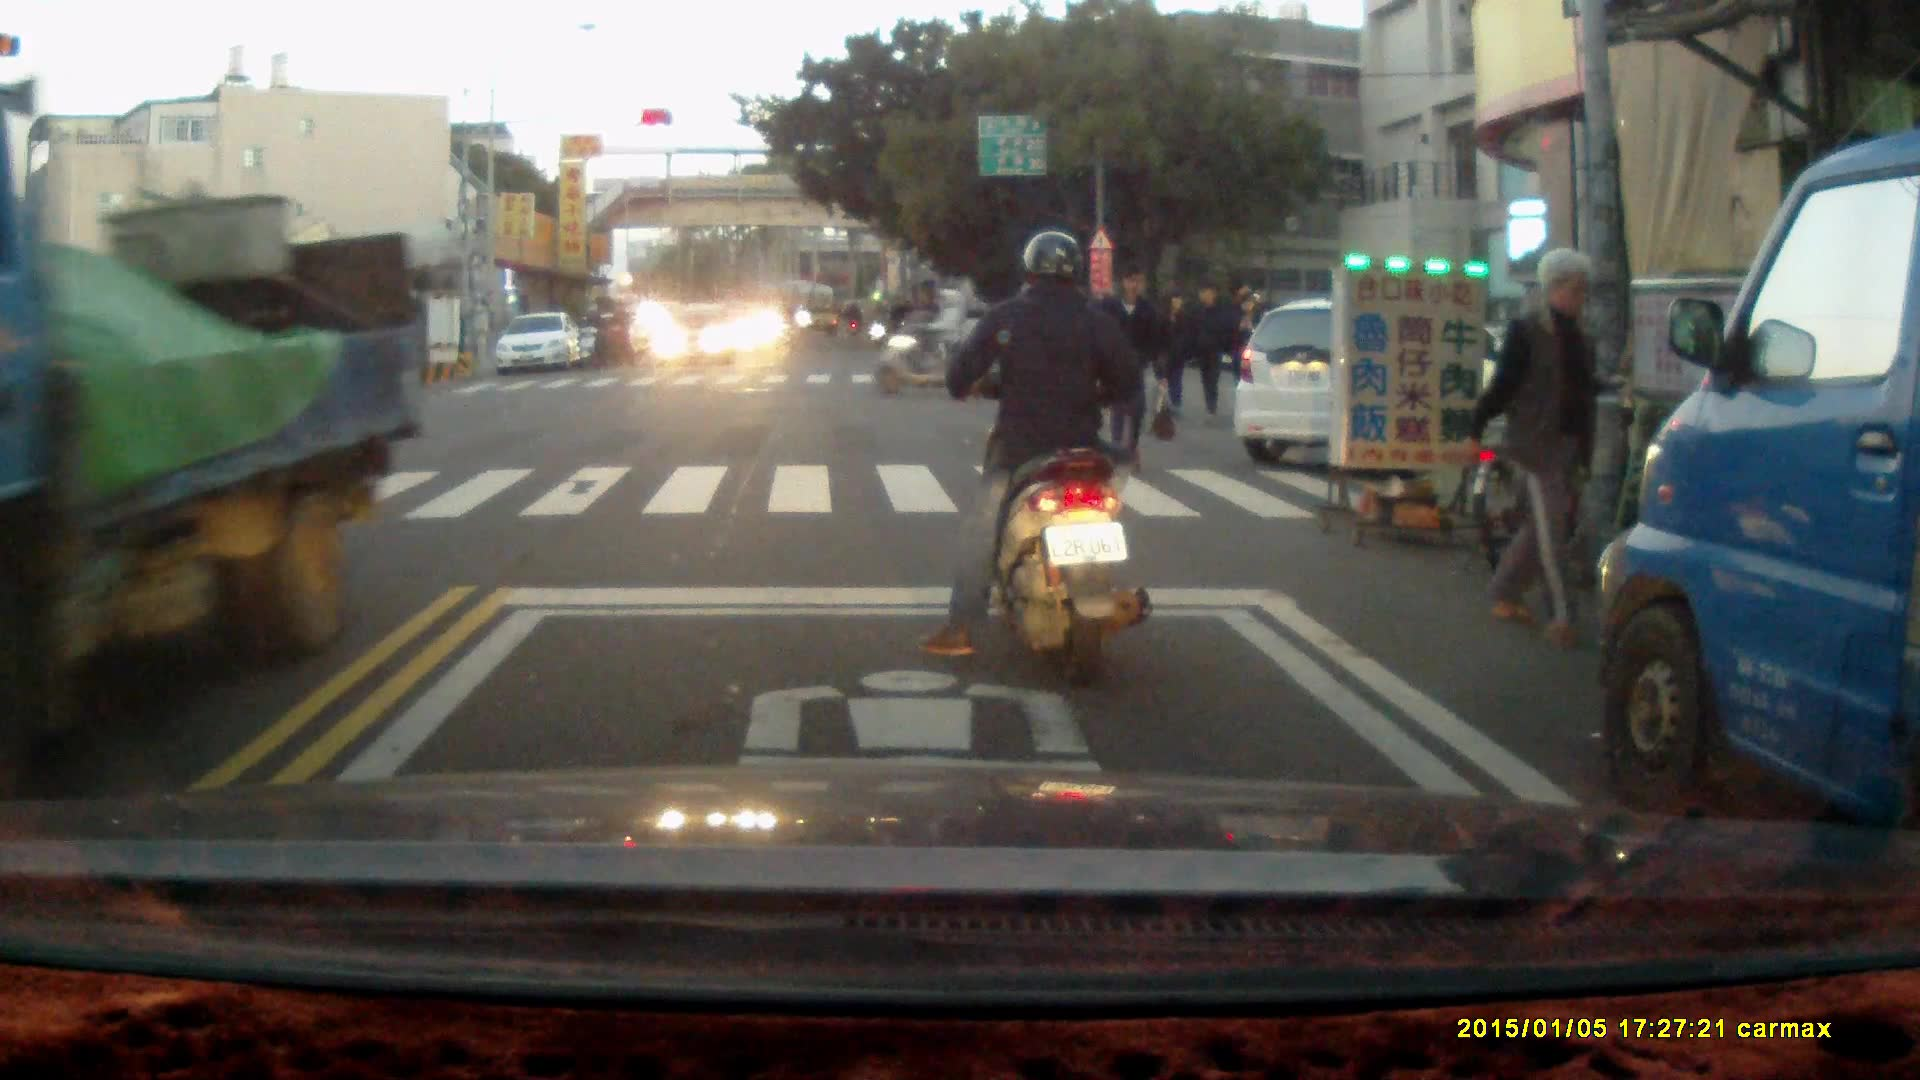pedestrian: (1476, 241, 1606, 643), (1090, 263, 1171, 475), (1186, 279, 1230, 424), (1155, 283, 1194, 425), (1230, 292, 1266, 405)
rider: (917, 229, 1151, 693), (873, 283, 981, 402), (577, 301, 612, 372), (601, 296, 636, 366), (861, 294, 889, 348)
vehicle: (1596, 120, 1920, 901), (1, 153, 423, 733), (1232, 303, 1533, 462), (493, 311, 584, 378), (657, 299, 744, 367)
